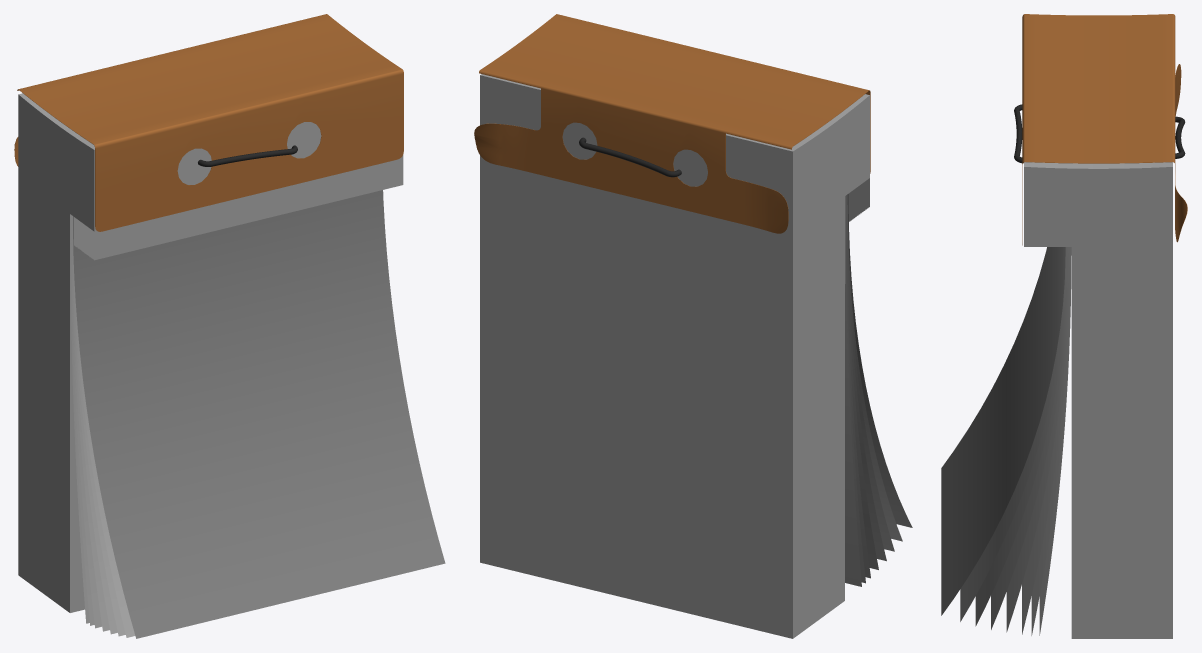
The model's file is calender.fbx.
The picture shows the model from 3 angles, left to right: view 1: azimuth 30°, elevation 25°; view 2: azimuth 150°, elevation 25°; view 3: azimuth 270°, elevation 25°; orthographic projection. The views are drawn at different scales.
Parts seen in each view (by area): view 1: first page, Line007, Line004, Rectangle007, Object023, Object022, Object021, Object020, Object019, Object018, Object017, Line002; view 2: Line004, Line007, Object017, first page, Object023, Object022, Object021, Object020, Object019, Object018, Line006, Rectangle007; view 3: Line004, Line007, first page, Object023, Object022, Object021, Object020, Object019, Object018, Object017, Line002.
Boxes of the visible parts, x1,y1,x2,y2 form: first page: [73, 190, 445, 638]; Line007: [14, 14, 403, 231]; Line004: [18, 93, 403, 612]; Rectangle007: [74, 156, 403, 260]; Object023: [72, 215, 135, 637]; Object022: [71, 215, 125, 636]; Object021: [71, 215, 117, 634]; Object020: [70, 215, 109, 631]; Object019: [70, 214, 101, 628]; Object018: [70, 214, 94, 625]; Object017: [70, 243, 89, 623]; Line002: [198, 145, 297, 166]; Line004: [480, 74, 869, 638]; Line007: [474, 14, 870, 233]; Object017: [845, 196, 861, 586]; first page: [847, 194, 912, 527]; Object023: [847, 194, 902, 541]; Object022: [846, 195, 894, 551]; Object021: [846, 195, 886, 561]; Object020: [846, 196, 878, 569]; Object019: [845, 196, 870, 578]; Object018: [845, 224, 865, 583]; Line006: [579, 137, 681, 177]; Rectangle007: [848, 178, 869, 221]; Line004: [1024, 162, 1172, 638]; Line007: [1022, 14, 1187, 245]; first page: [941, 247, 1065, 615]; Object023: [960, 247, 1067, 621]; Object022: [975, 247, 1068, 626]; Object021: [991, 247, 1069, 629]; Object020: [1006, 247, 1070, 632]; Object019: [1022, 247, 1070, 634]; Object018: [1031, 247, 1071, 635]; Object017: [1039, 247, 1071, 635]; Line002: [1014, 104, 1023, 163].
Size of the model in its own units: 4.81 by 7.23 by 3.39.
